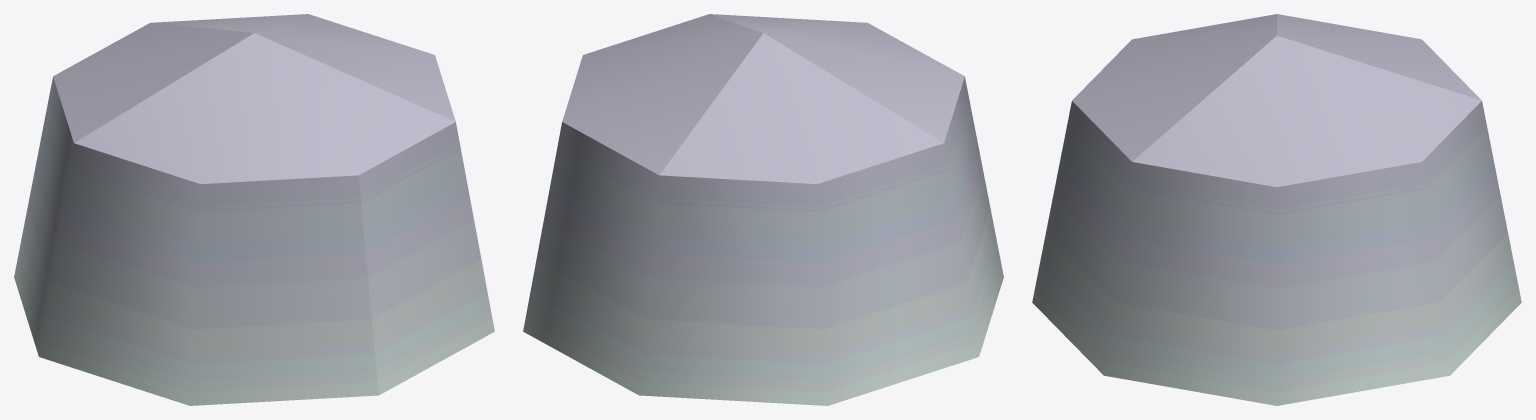
Rendered from Antartica battleground.obj.
3 views of the same model, side by side, from view 1: azimuth 30°, elevation 25°; view 2: azimuth 150°, elevation 25°; view 3: azimuth 270°, elevation 25° (orthographic).
Visible parts, largest first — view 1: nankyoku; view 2: nankyoku; view 3: nankyoku.
Boxes of the visible parts, box(x1,y1,x2,y2) form: nankyoku: box(14, 14, 494, 405); nankyoku: box(523, 14, 1003, 405); nankyoku: box(1032, 14, 1521, 405).
Bounding box in the file's own units: 1810 × 1088 × 1810.
4 materials, 4 textured.
